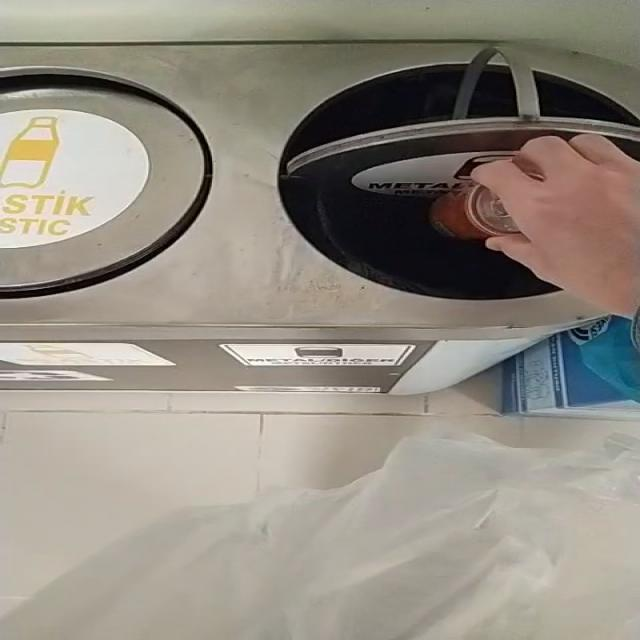bin: (0, 43, 640, 396)
metal: (431, 184, 521, 240)
